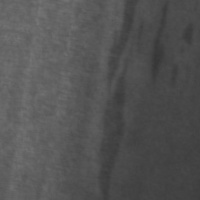inclusion: (83, 0, 147, 199), (139, 0, 177, 93), (173, 17, 199, 55)
